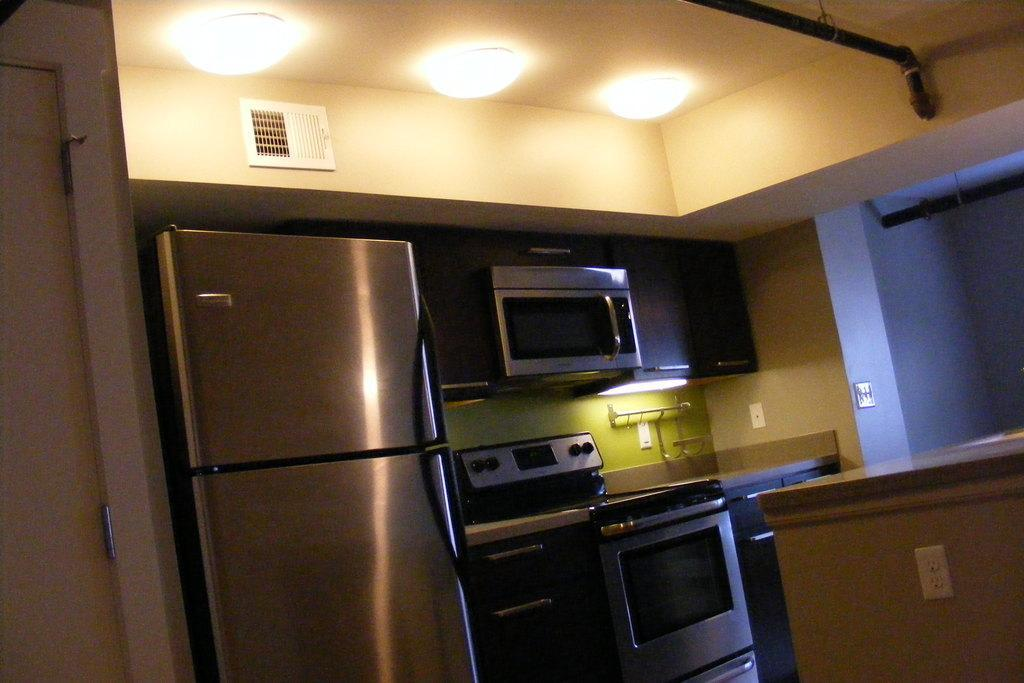door: (2, 64, 96, 670)
